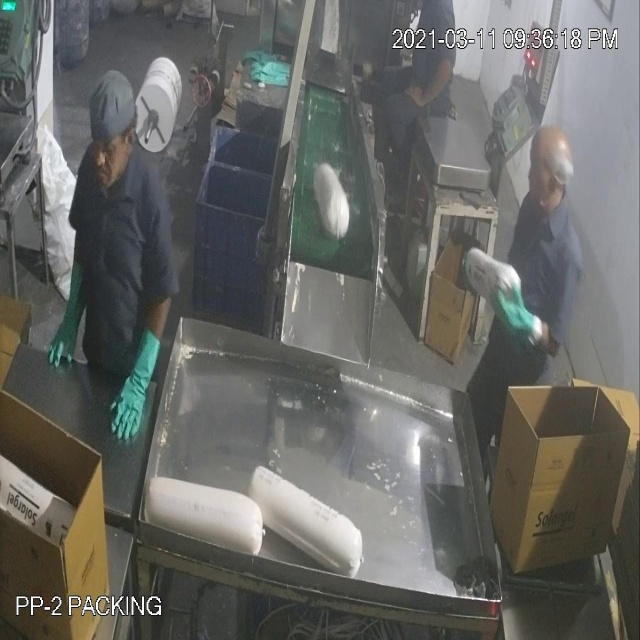Guantes: (105, 320, 161, 457), (42, 253, 92, 377), (492, 275, 548, 349)
Sin_guantes: (403, 53, 455, 116)
